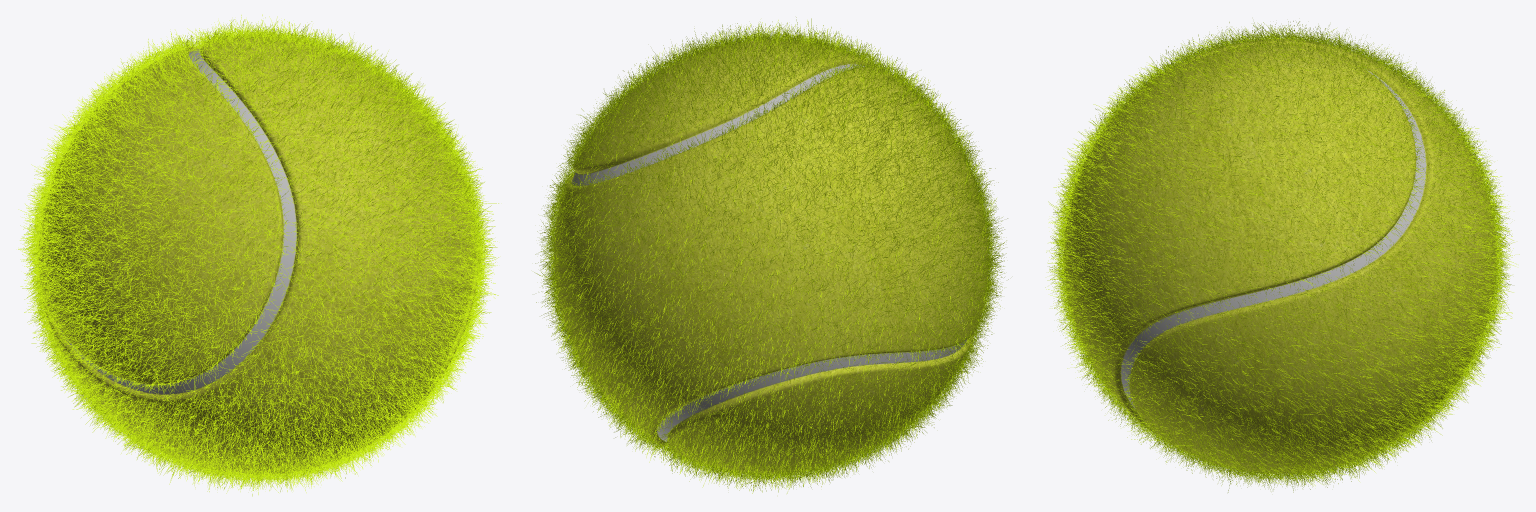
Rendered from tennis_ball_2_hi.glb.
3 renders of one model, left to right at view 1: azimuth 30°, elevation 25°; view 2: azimuth 150°, elevation 25°; view 3: azimuth 270°, elevation 25°, orthographic.
Parts seen in each view (by area): view 1: Object_2; view 2: Object_2; view 3: Object_2.
Boxes of the visible parts, box(x1,y1,x2,y2) form: Object_2: box(18, 14, 498, 496); Object_2: box(534, 17, 1008, 493); Object_2: box(1045, 21, 1519, 492).
Bounding box in the file's own units: 0.067 × 0.0668 × 0.0668.
Materials: 2 (1 with a texture image).
